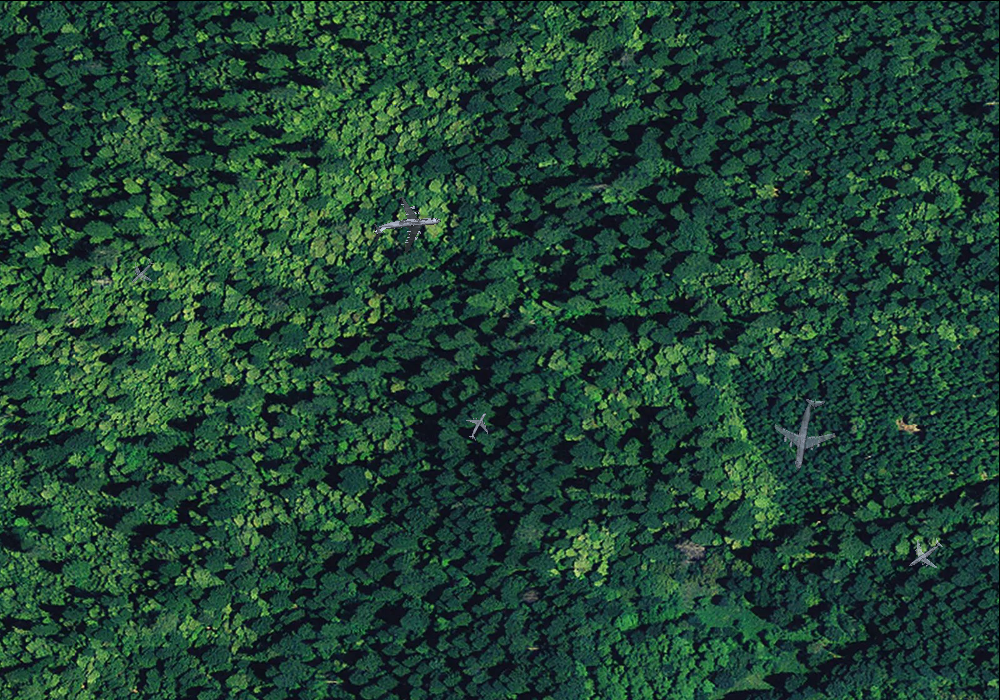plane: (766, 392, 846, 476), (369, 191, 443, 261), (898, 527, 952, 580), (120, 251, 162, 292), (458, 405, 498, 446)
